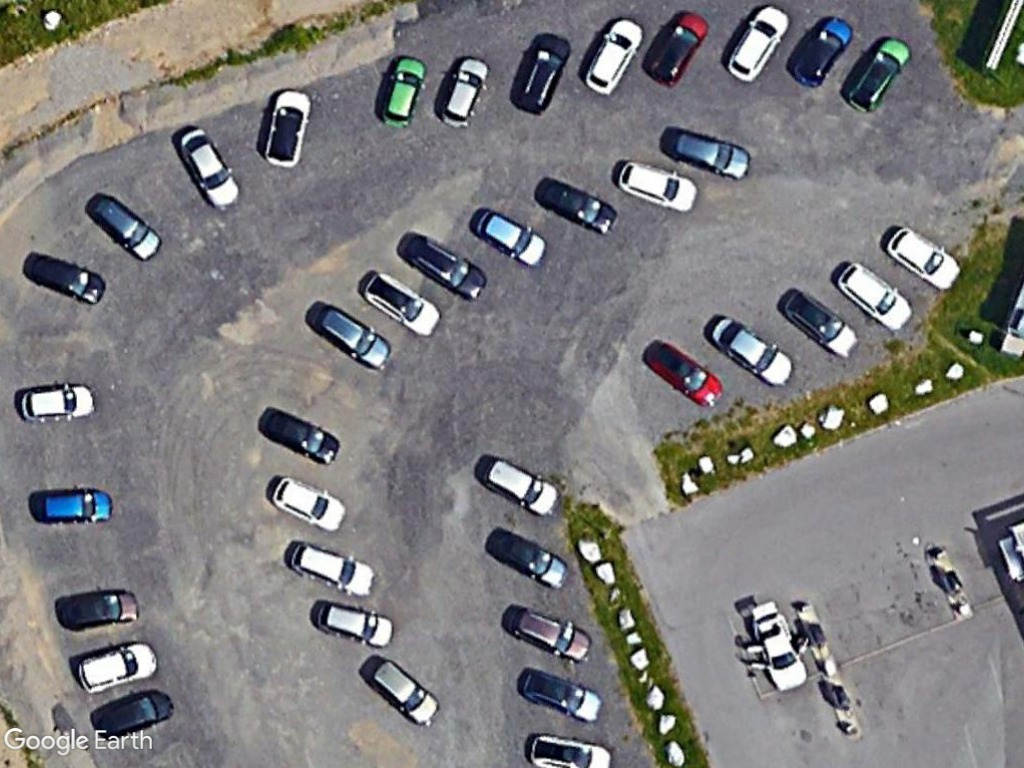car: (395, 227, 488, 306), (704, 312, 799, 389), (359, 262, 445, 346), (777, 281, 866, 362), (639, 337, 730, 414), (530, 167, 621, 242), (357, 654, 445, 731), (170, 122, 242, 216), (306, 299, 395, 375), (86, 185, 167, 267), (746, 597, 813, 696), (512, 662, 606, 730), (282, 538, 383, 601), (255, 401, 347, 470), (509, 24, 574, 121), (577, 8, 646, 99), (501, 600, 597, 665), (834, 259, 917, 334), (86, 680, 179, 746), (880, 221, 965, 293), (658, 119, 755, 182), (723, 0, 791, 89), (841, 35, 915, 116), (641, 8, 712, 90), (18, 249, 113, 310), (484, 528, 574, 592), (609, 153, 699, 217), (465, 204, 552, 270), (254, 78, 315, 172), (477, 454, 562, 521), (785, 11, 857, 90), (70, 633, 160, 696), (308, 595, 400, 654), (267, 473, 354, 535), (52, 582, 144, 635), (433, 49, 489, 131), (379, 49, 430, 134), (14, 376, 97, 426), (27, 483, 118, 528)
